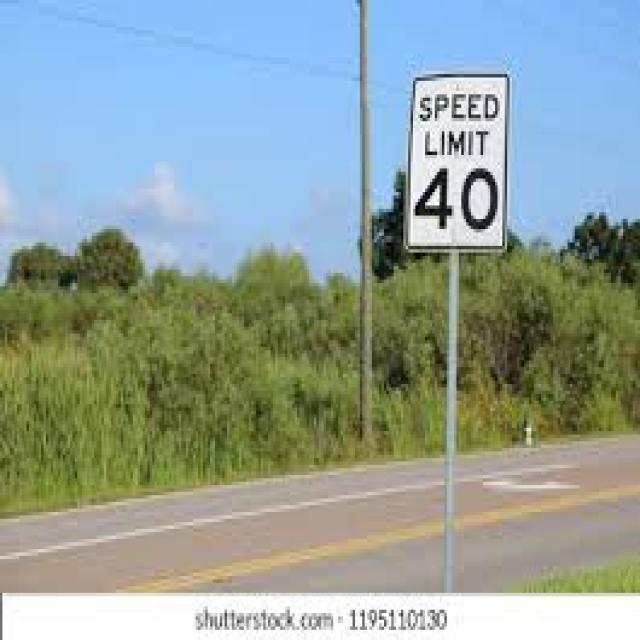speedLimit40: (407, 76, 508, 251)
